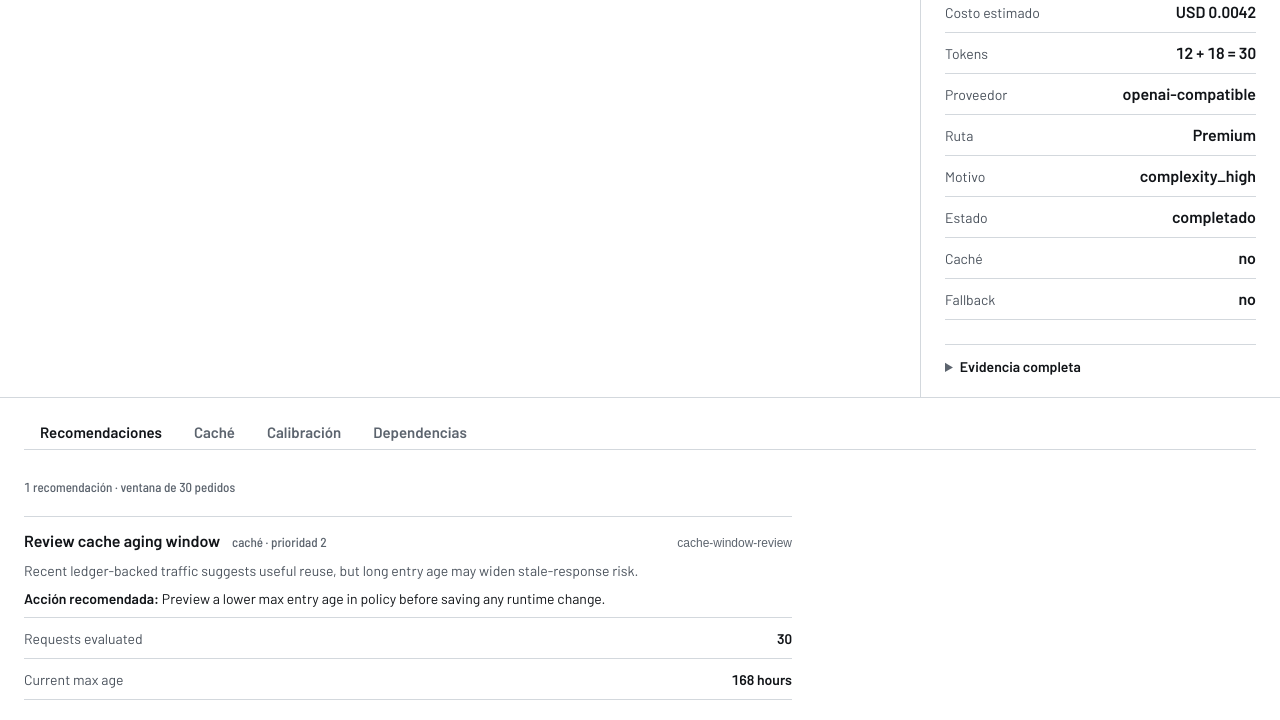
Test: ObservabilityPage › names stale tenant calibration in its tab
(page scrolled)
Click the tab "Calibración". click: (304, 433)
box: x1=251 y1=413 x2=357 y2=453
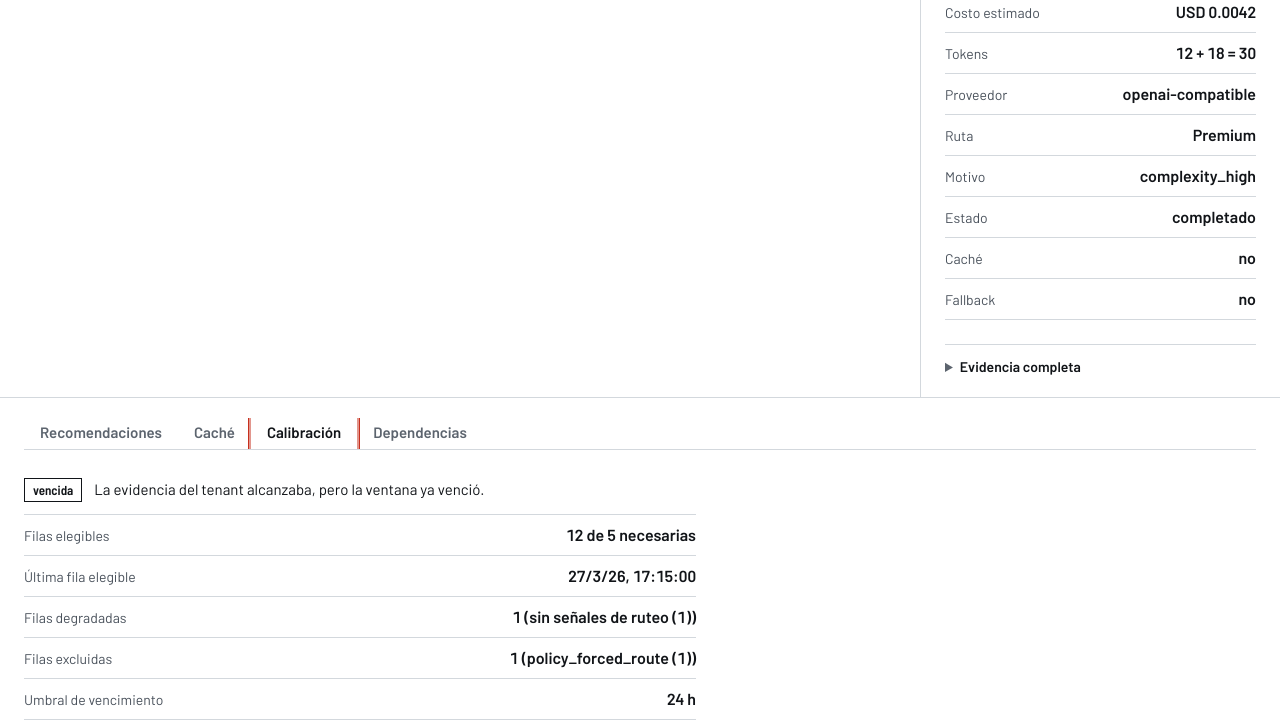
Expected: the text "vencida" is shown, x1=24 y1=478 x2=82 y2=502
